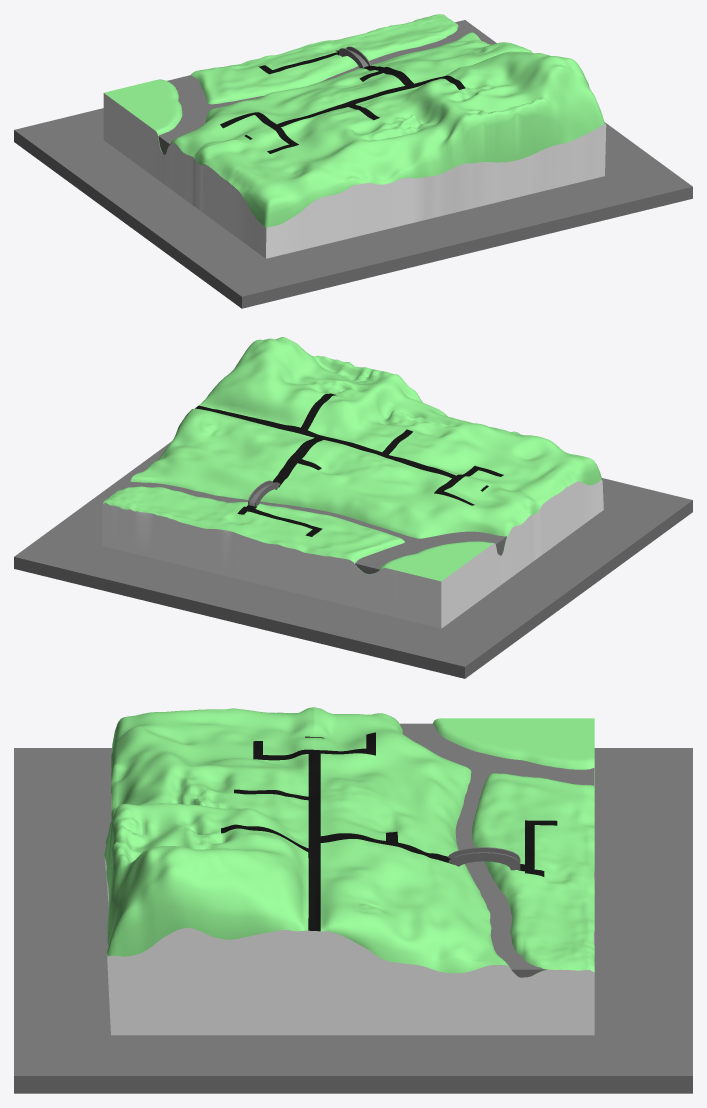
3 renders of one model, top to bottom at view 1: azimuth 30°, elevation 25°; view 2: azimuth 150°, elevation 25°; view 3: azimuth 270°, elevation 25°, orthographic. The views are drawn at different scales.
Parts seen in each view (by area): view 1: LS_地形, LS_地形底板, LS_地形水面; view 2: LS_地形, LS_地形底板, LS_地形水面; view 3: LS_地形, LS_地形底板, LS_地形水面, LS_桥.
Part boxes in pixels (x1,y1,x2,y2): LS_地形: [103, 14, 606, 258]; LS_地形底板: [14, 20, 692, 308]; LS_地形水面: [158, 25, 468, 154]; LS_地形: [102, 337, 603, 628]; LS_地形底板: [14, 441, 692, 678]; LS_地形水面: [118, 481, 506, 574]; LS_地形: [104, 707, 594, 1035]; LS_地形底板: [14, 748, 692, 1093]; LS_地形水面: [400, 723, 594, 977]; LS_桥: [448, 847, 520, 870].
Size of the model in its own units: 8000 by 2073 by 7000.
